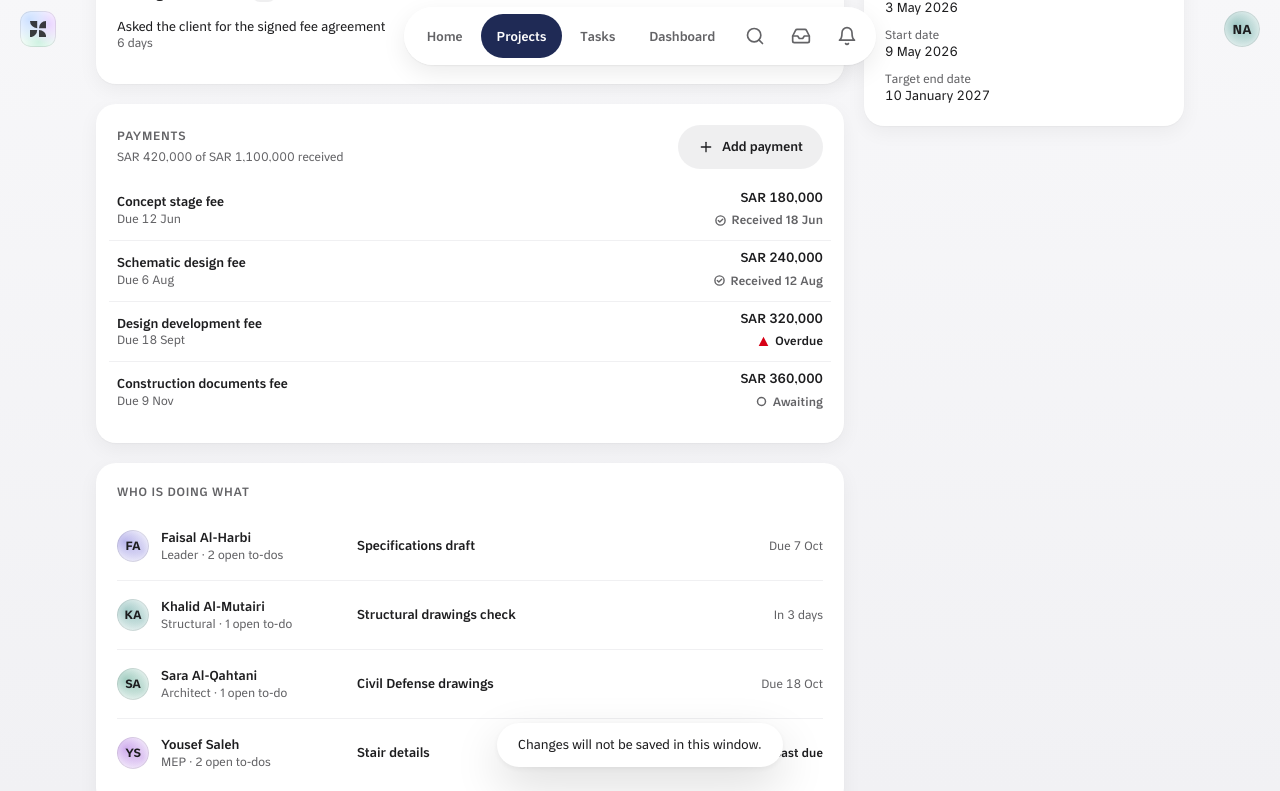
it: state 2: the client has no match › fills the search with the client name, lists the results, and matches with one press and a toast
(page scrolled)
Click the button "Construction documents fee Due 9 Nov SAR 360,000 Awaiting": coordinates (202, 383) [109,362,831,422]
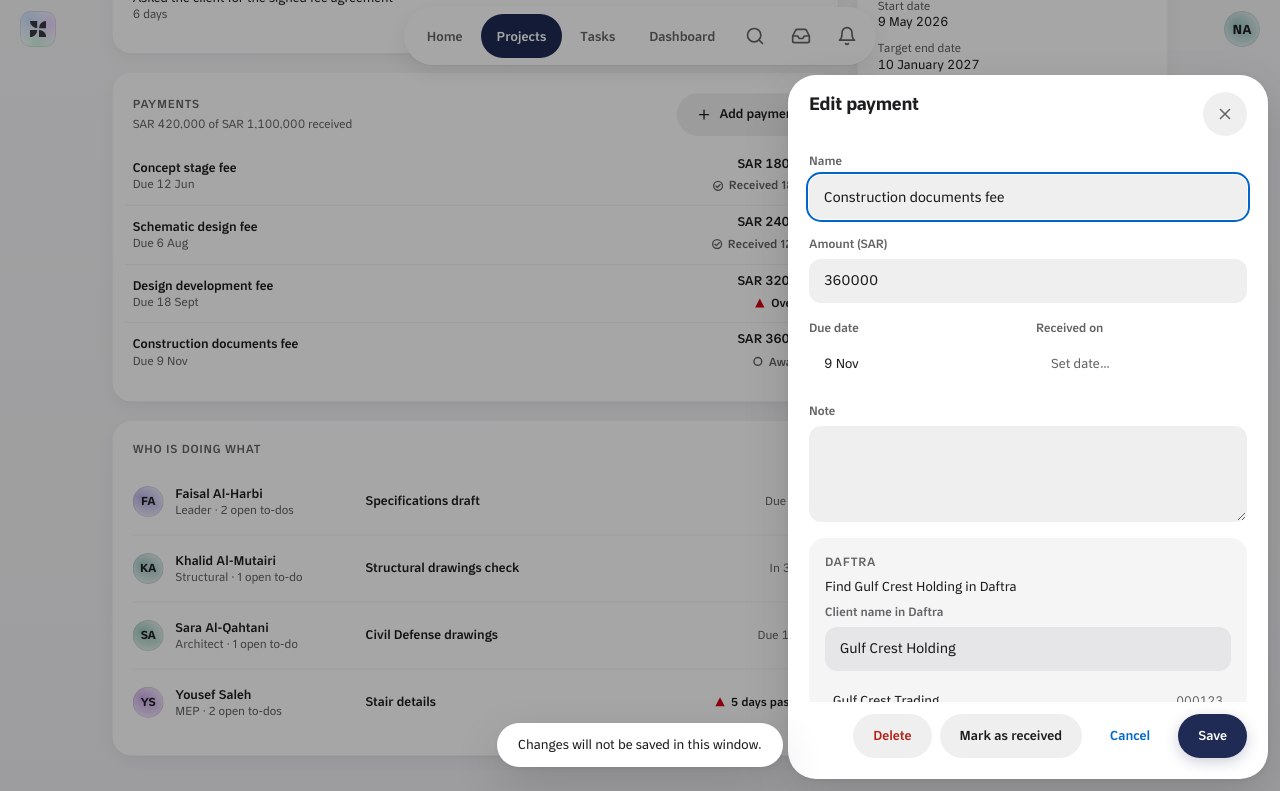
Expected: the field labelled "Client name in Daftra" holds "Gulf Crest Holding", [825,627,1231,671]
Click the button with aria-label "Use Gulf Crest Trading": coordinates (886, 700) [825,679,1231,723]
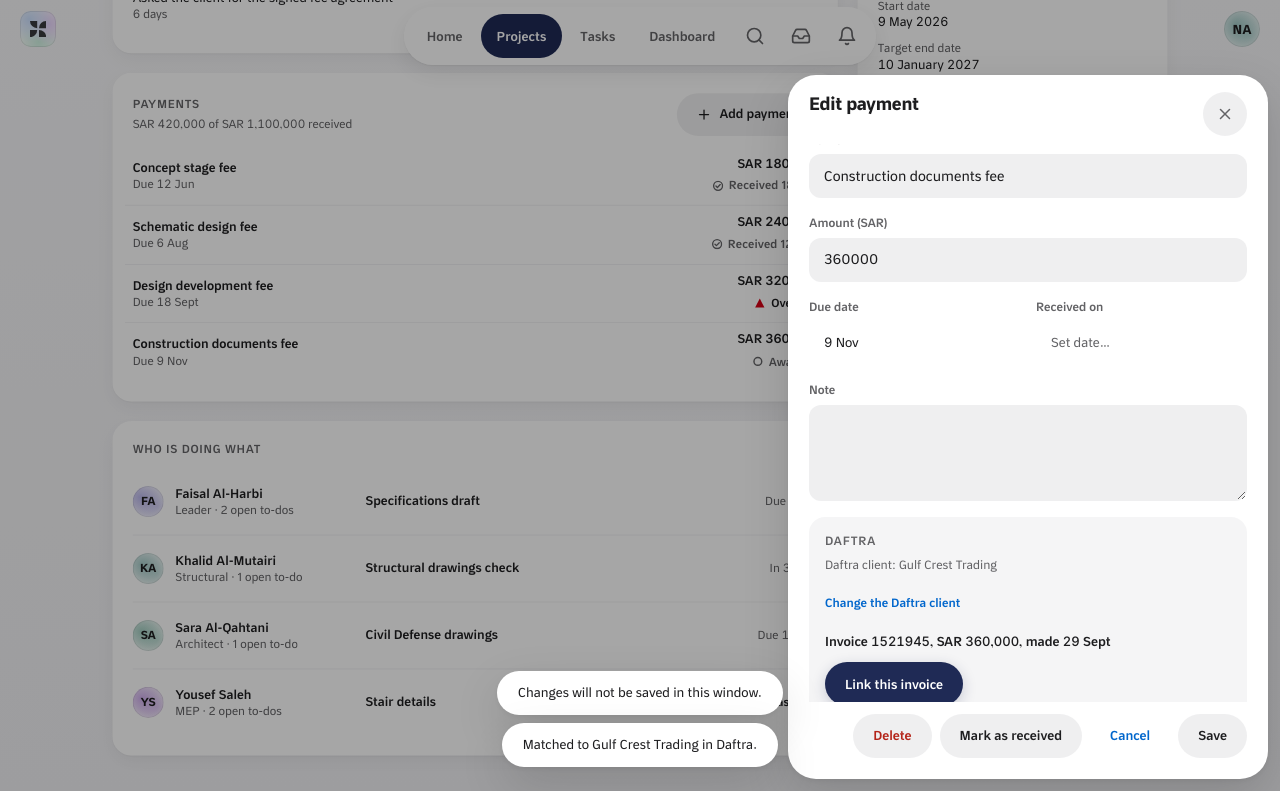
Expected: the text "Matched to Gulf Crest Trading in Daftra." is shown, [523,736,757,754]
Expected: the button "Link this invoice" is shown, [825,662,963,702]
